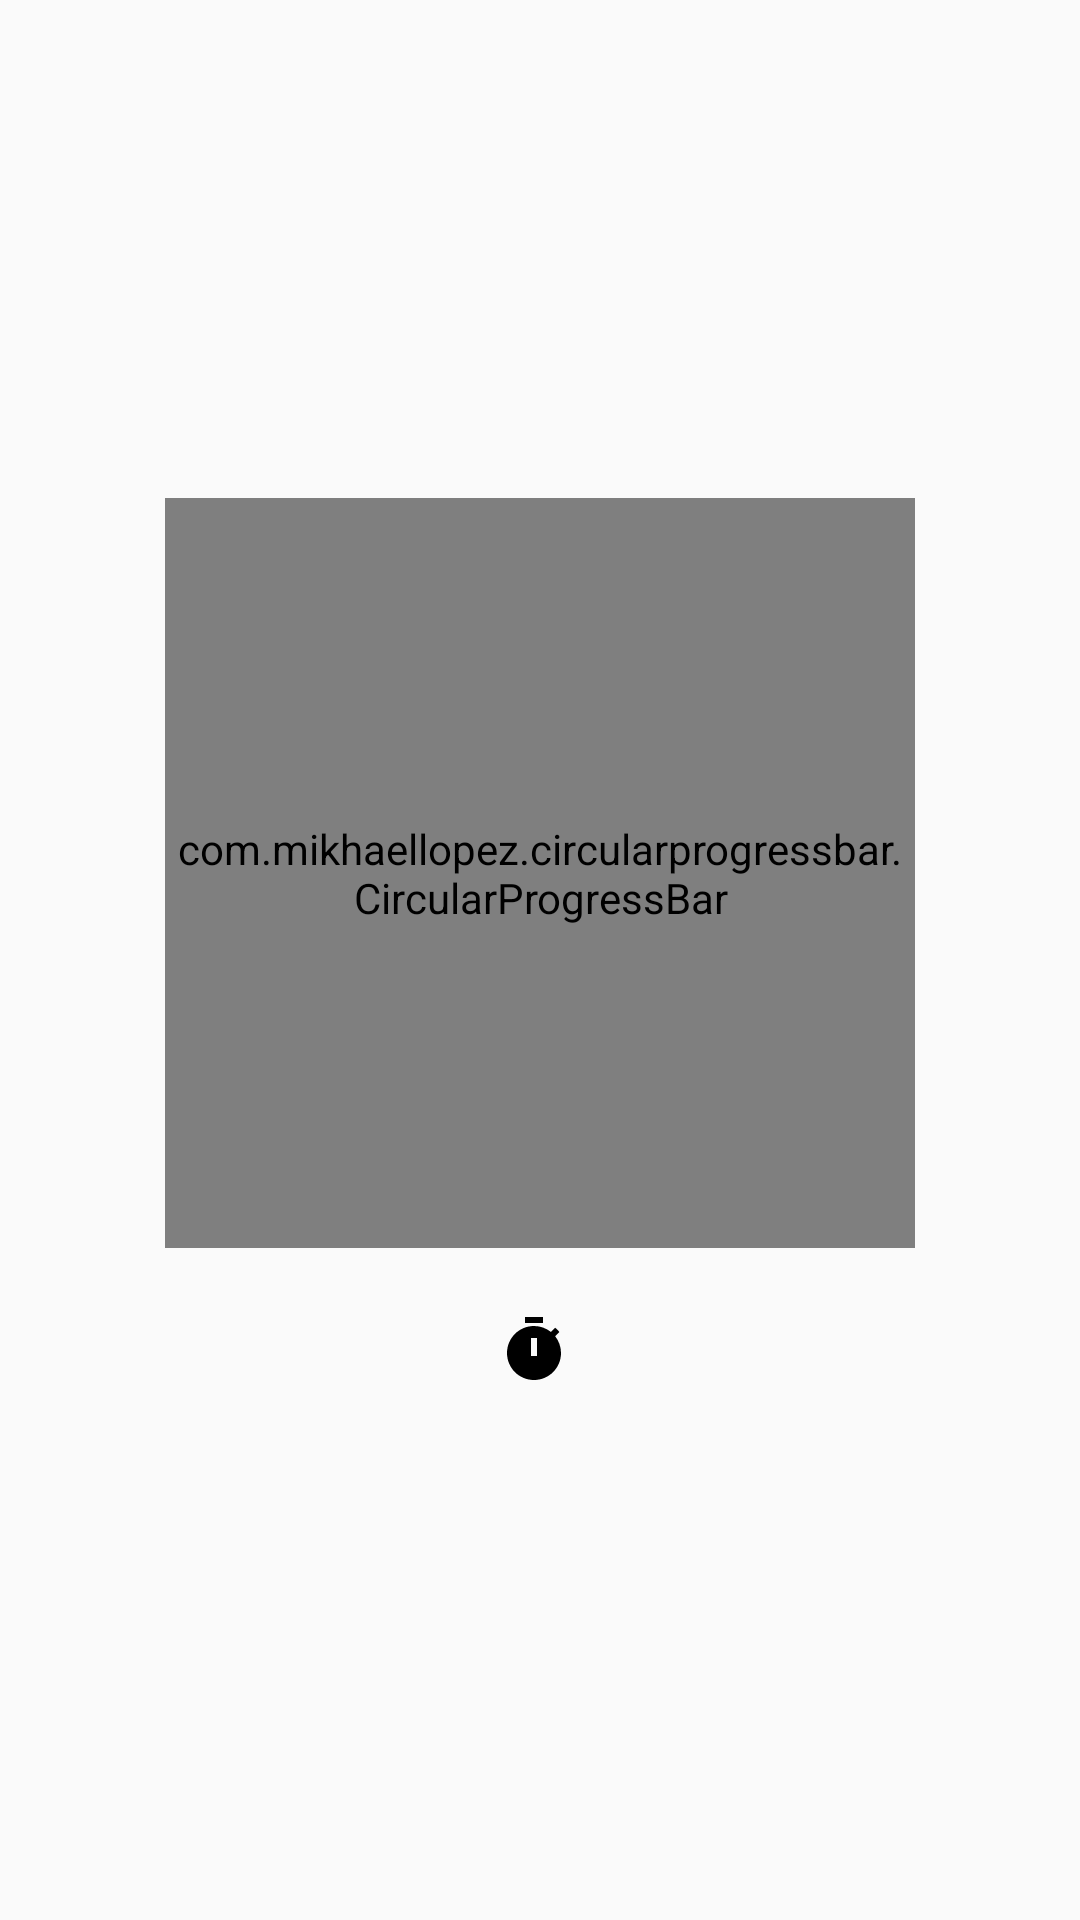

Icons on this 1080px×1920px Android screen, each with its box as (x1, y1, x2, y2):
timer: (507, 1317, 561, 1380)
